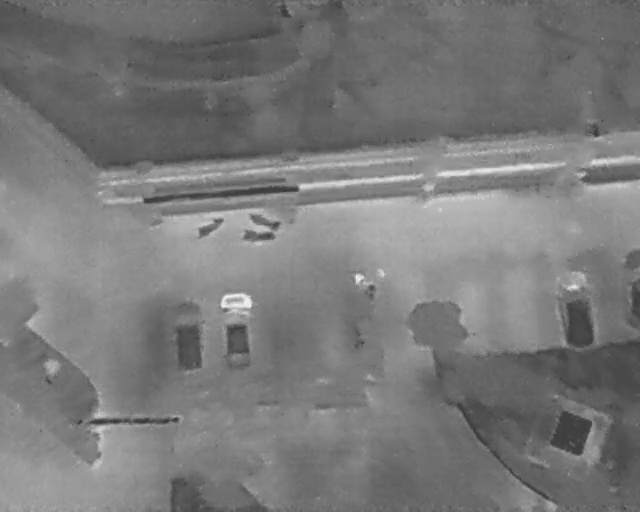Bicycle: (189, 209, 230, 243), (245, 209, 283, 234), (240, 226, 277, 244)
Car: (554, 266, 598, 350), (168, 297, 210, 374), (218, 290, 256, 371), (621, 246, 639, 333)
Person: (348, 270, 366, 288)
